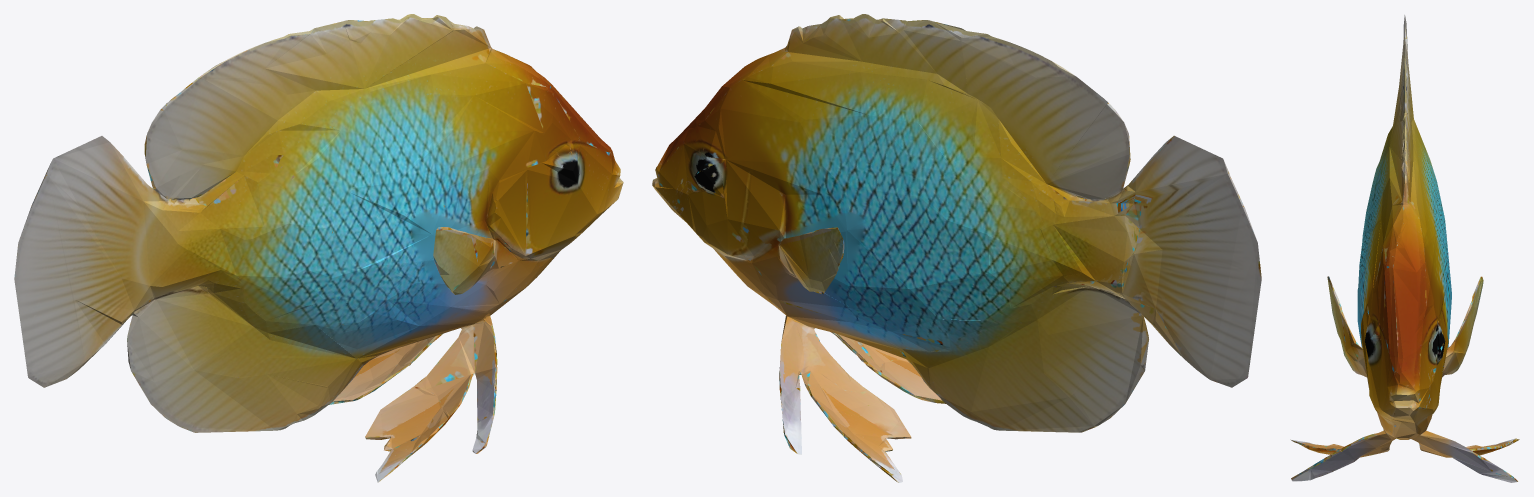
Rendered from fish_0006_smpl23_resized.glb.
The picture shows the model from 3 angles, left to right: view 1: azimuth 30°, elevation 25°; view 2: azimuth 150°, elevation 25°; view 3: azimuth 270°, elevation 25°; orthographic projection. The views are drawn at different scales.
Visible parts, largest first — view 1: world; view 2: world; view 3: world.
Part boxes in pixels (x1=…): world: x1=14, y1=14, x2=623, y2=482; world: x1=652, y1=14, x2=1261, y2=482; world: x1=1290, y1=15, x2=1519, y2=482.
Bounding box in the file's own units: 1.98 × 1.28 × 0.7161.
Materials: 1 (1 with a texture image).
